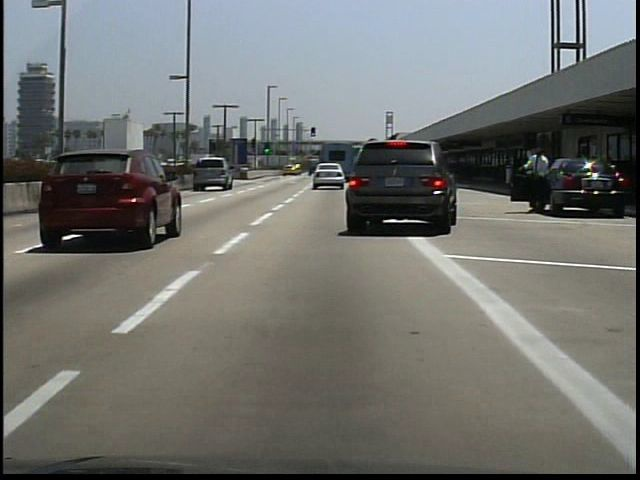person: (518, 143, 551, 217)
